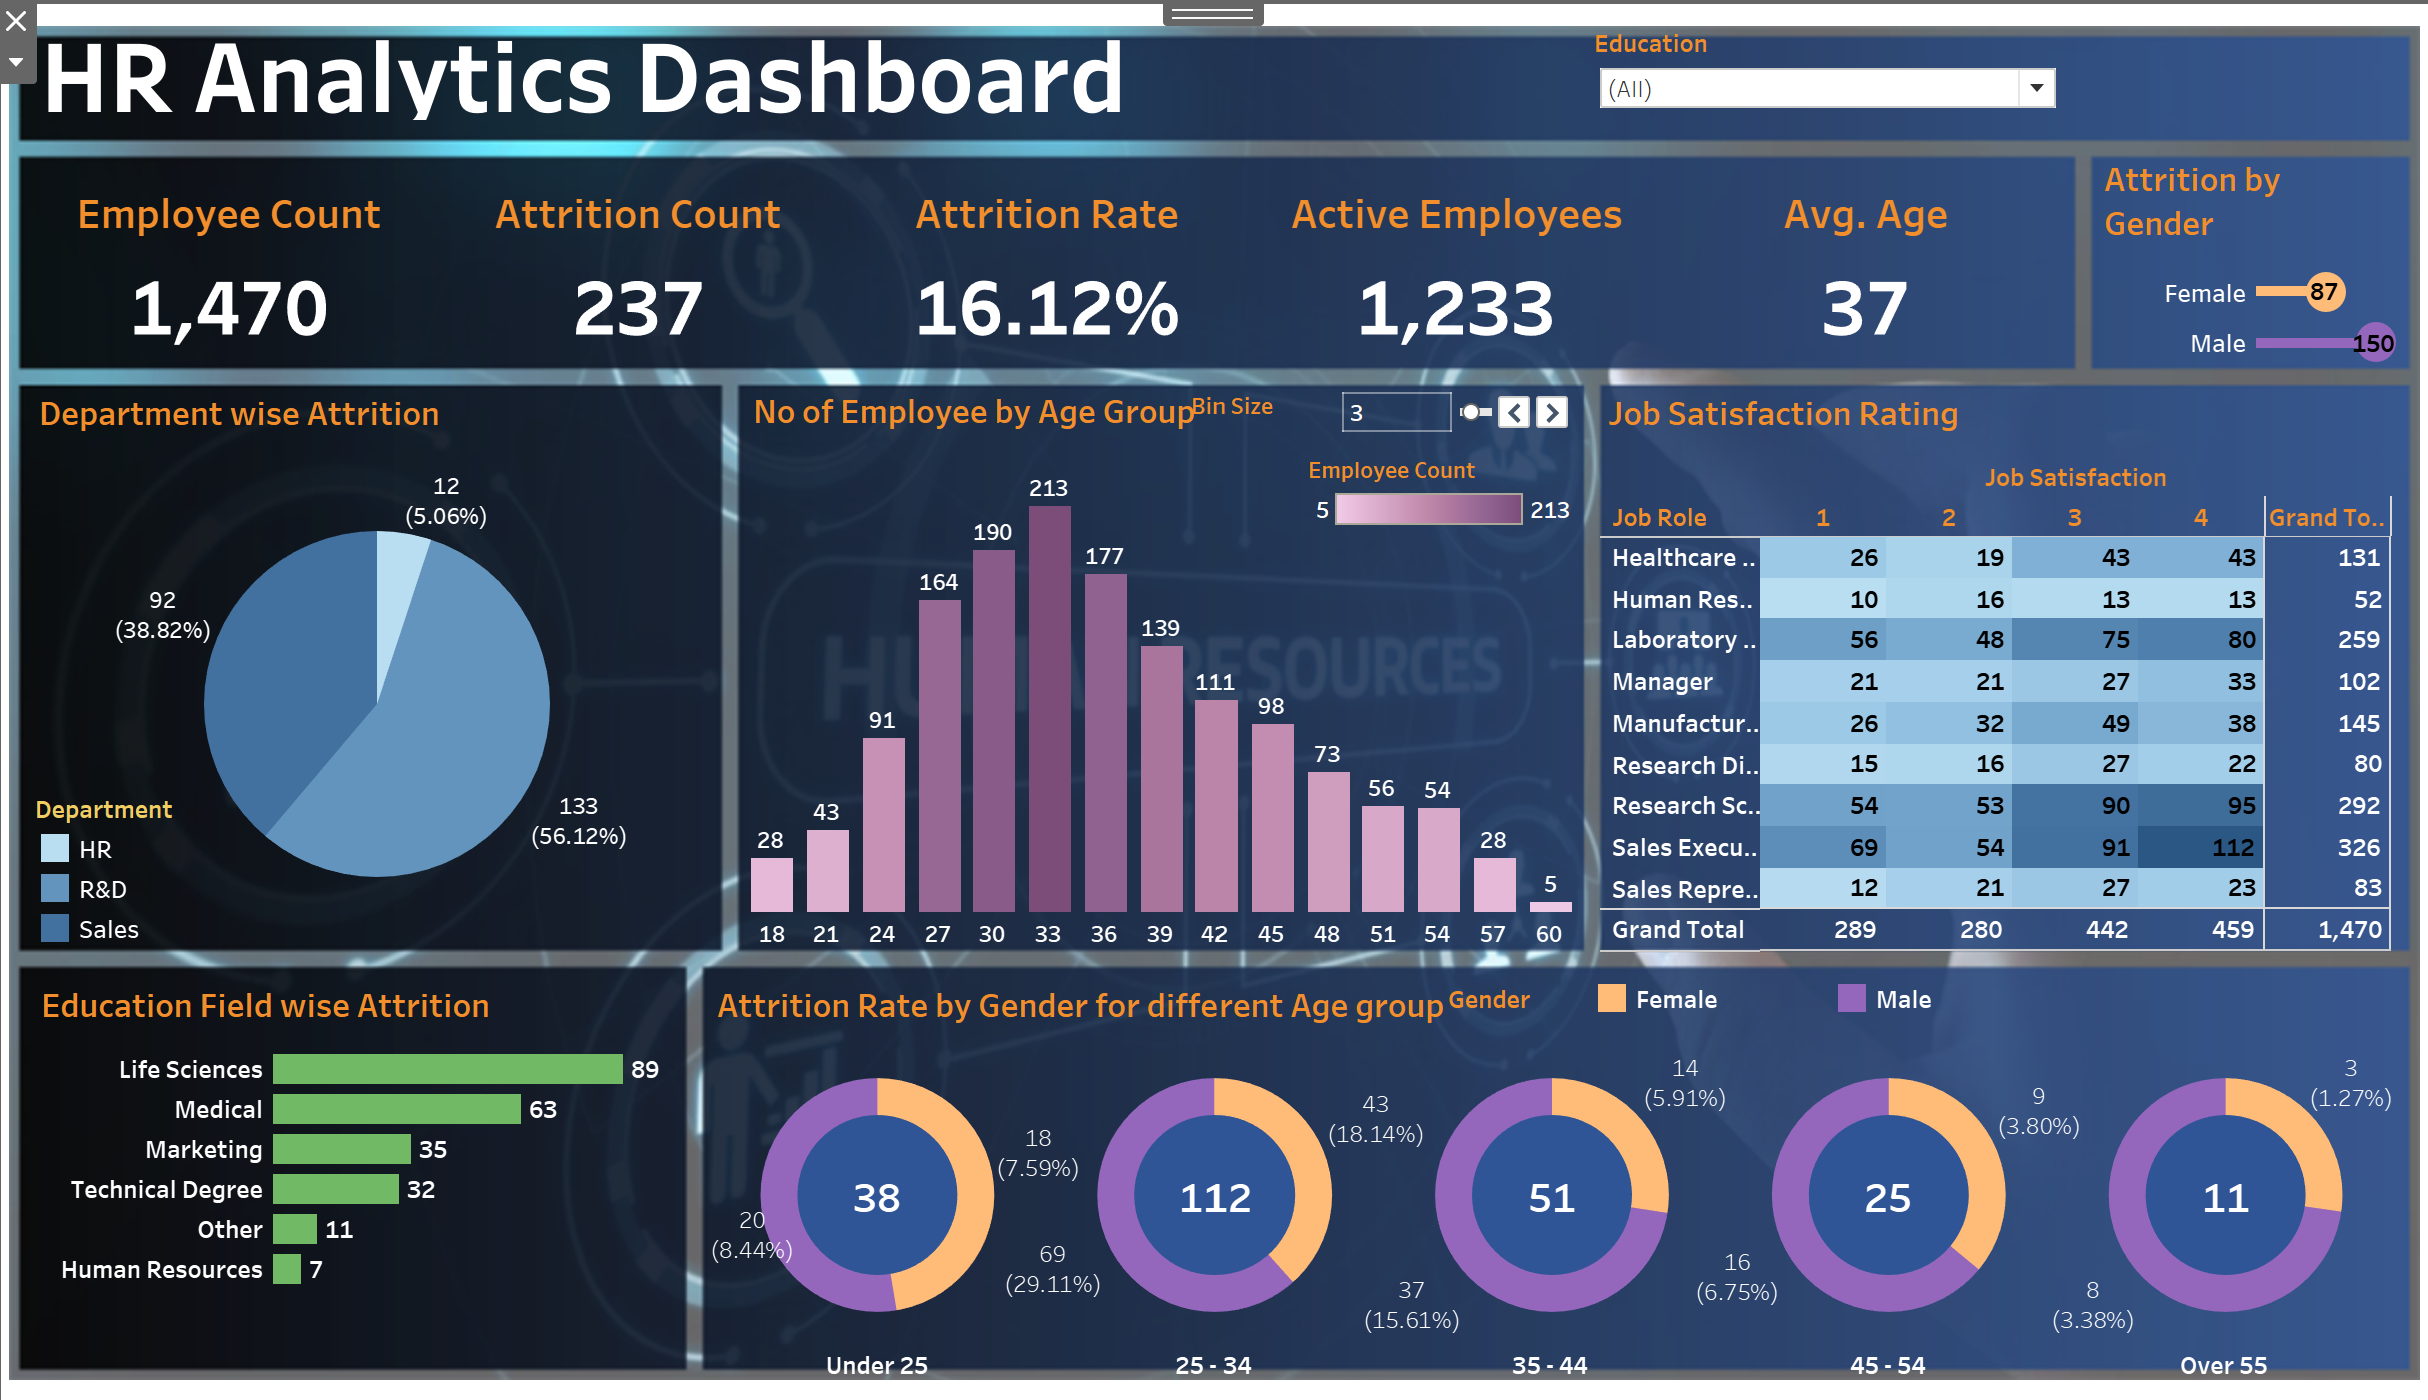

This screenshot's page, from the dashboard's own definition file:
{"tool":"tableau","page":{"name":"HR Analytics Dashboard","canvas":[1000,1000],"units":"permille","ordinal":0},"visuals":[{"type":"image","param":"Image/HR background.png","box":[6.3,11.2,987.4,977.7]},{"type":"text","box":[20.5,26.5,652.5,65.6]},{"type":"filter","title":"Department wise Attrition","param":"[federated.185a3oj1fpdw9g151wb3l0aa7ujx].[none:Education:nk]","box":[654.1,26.5,190.7,68.4]},{"type":"worksheet","title":"Attrition by Gender","mark":"Automatic","rows":["Gender"],"cols":["Calculation_1876875183022120960","Calculation_1876875183022120960"],"box":[858.4,111.7,124.5,153.6]},{"type":"worksheet","title":"KPI","mark":"Automatic","box":[16.3,120.1,831.6,145.2]},{"type":"worksheet","title":"No of Employee by Age Group","mark":"Automatic","rows":["Employee Count"],"cols":["Age (bin)"],"box":[308.9,273.7,338.9,399.4]},{"type":"worksheet","title":"Department wise Attrition","mark":"Pie","box":[18.9,275.1,281.3,398]},{"type":"worksheet","title":"Job Satisfaction Rating","mark":"Square","rows":["Job Role"],"cols":["Job Satisfaction"],"box":[656.4,275.1,322.3,398]},{"type":"parameter","param":"[Parameters].[Parameter 1]","box":[490.9,277.9,155.2,48.9]},{"type":"legend","title":"No of Employee by Age Group","param":"[federated.185a3oj1fpdw9g151wb3l0aa7ujx].[sum:Employee Count:qk]","box":[537.4,325.4,110.3,51.7]},{"type":"legend","title":"Department wise Attrition","param":"[federated.185a3oj1fpdw9g151wb3l0aa7ujx].[none:Department:nk]","box":[20.5,561.5,81.2,108.9]},{"type":"worksheet","title":"Education Field wise Attrition","mark":"Automatic","rows":["Education Field"],"cols":["Calculation_1876875183022120960"],"box":[19.7,688.6,267.1,286.3]},{"type":"worksheet","title":"Attrition Rate by Gender for different Age group","mark":"Pie","rows":["Calculation_1876875183133945860","Calculation_1876875183133945860"],"cols":["CF_age band"],"box":[294.7,688.6,684.8,286.3]},{"type":"legend","title":"Attrition Rate by Gender for different Age group","param":"[federated.185a3oj1fpdw9g151wb3l0aa7ujx].[none:Gender:nk]","box":[595,691.3,283.7,30.7]}]}

Visuals, with their boxes on the dashboard's canvas, which has no fixed pixel size, in thousandths of its width and height (x1, y1, x2, y2). These are canvas units, not pixel positions in the 2428x1400 screenshot, which may show the page scaled, cropped or inside an application window:
image: <box>6,11,994,989</box>
text: <box>20,26,673,92</box>
"Department wise Attrition" filter: <box>654,26,845,95</box>
"Attrition by Gender" worksheet: <box>858,112,983,265</box>
"KPI" worksheet: <box>16,120,848,265</box>
"No of Employee by Age Group" worksheet: <box>309,274,648,673</box>
"Department wise Attrition" worksheet (Pie marks): <box>19,275,300,673</box>
"Job Satisfaction Rating" worksheet (Square marks): <box>656,275,979,673</box>
parameter: <box>491,278,646,327</box>
"No of Employee by Age Group" legend: <box>537,325,648,377</box>
"Department wise Attrition" legend: <box>20,562,102,670</box>
"Education Field wise Attrition" worksheet: <box>20,689,287,975</box>
"Attrition Rate by Gender for different Age group" worksheet (Pie marks): <box>295,689,980,975</box>
"Attrition Rate by Gender for different Age group" legend: <box>595,691,879,722</box>
